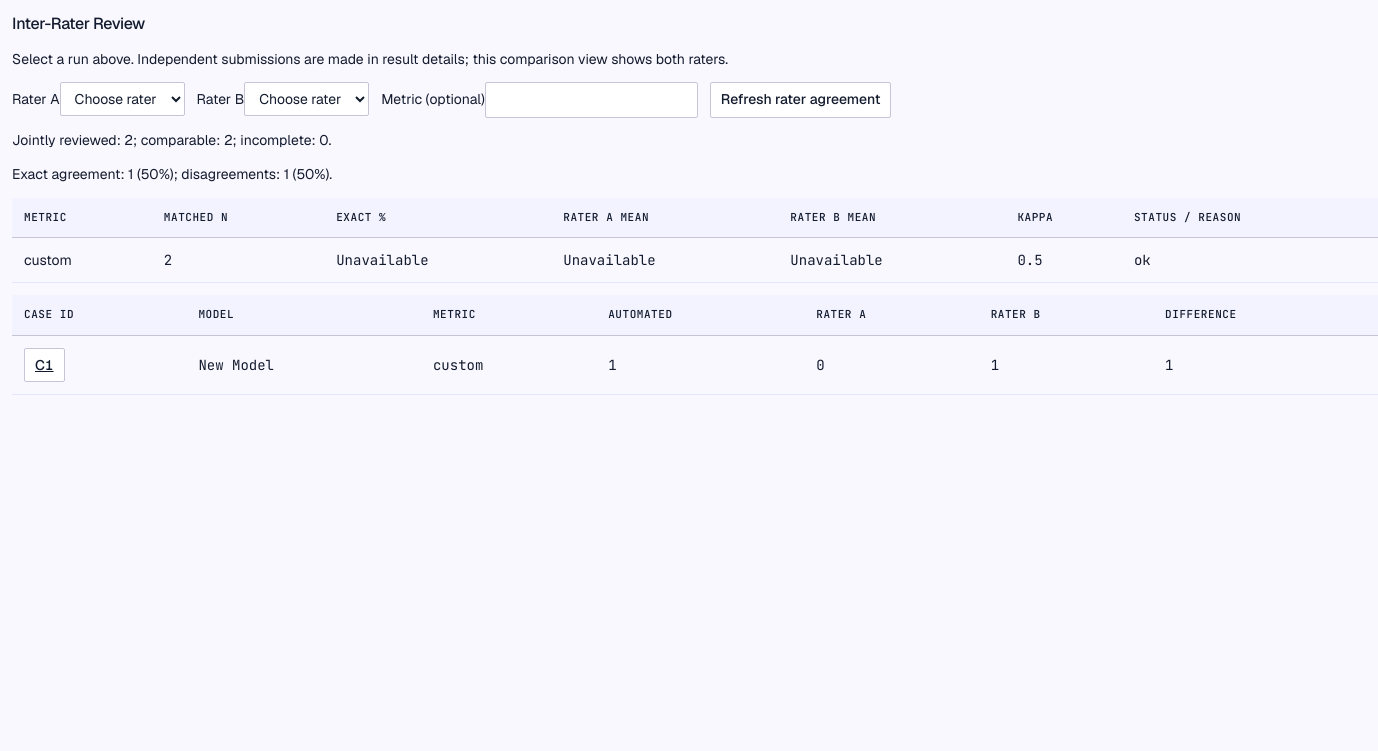
Test: agreement selection, summary and disagreement evidence
Expected: the text "Jointly reviewed: 2; comparable: 2; incomplete: 0." is shown, [12,131,331,149]
Select "Expert Ω" in the dropdown labelled "Rater A" at [122, 100], box [60,82,184,116]
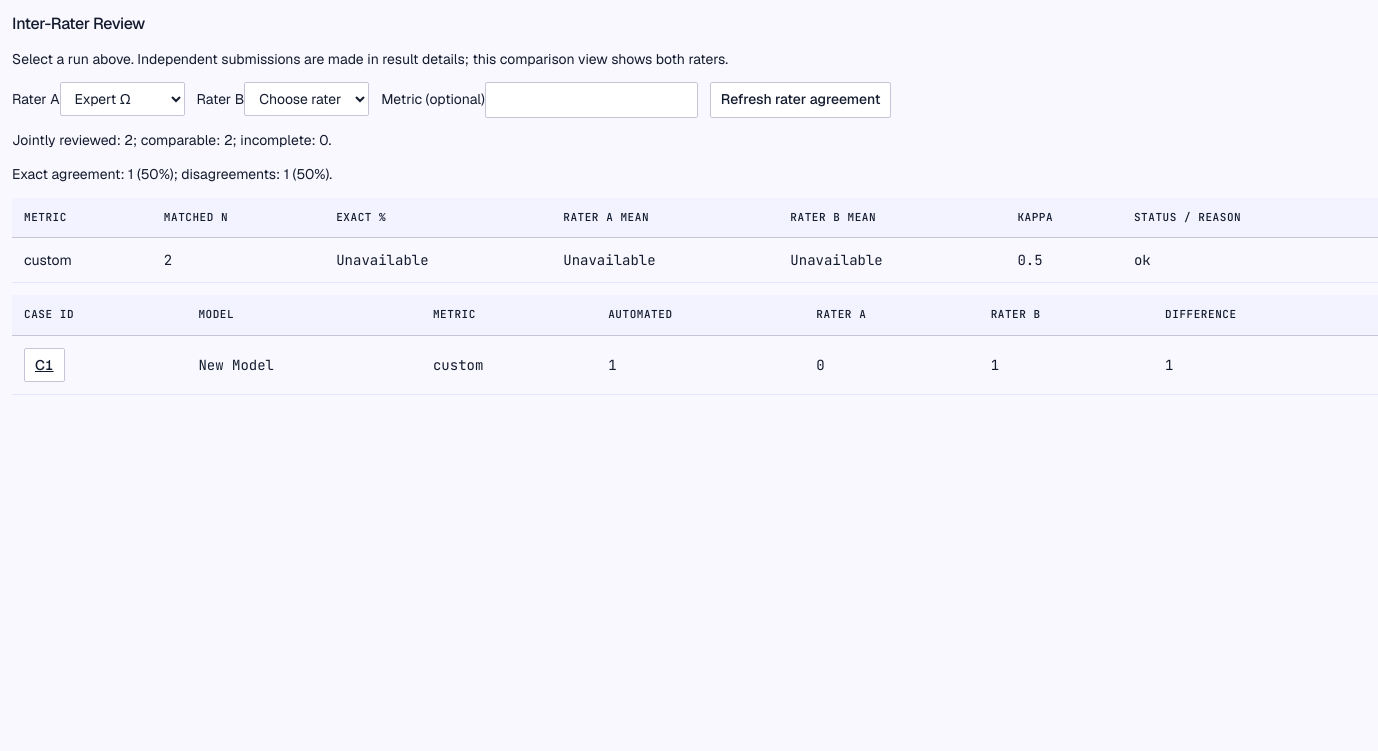
Click the button "C1".
click(44, 365)  # box [24,348,65,382]
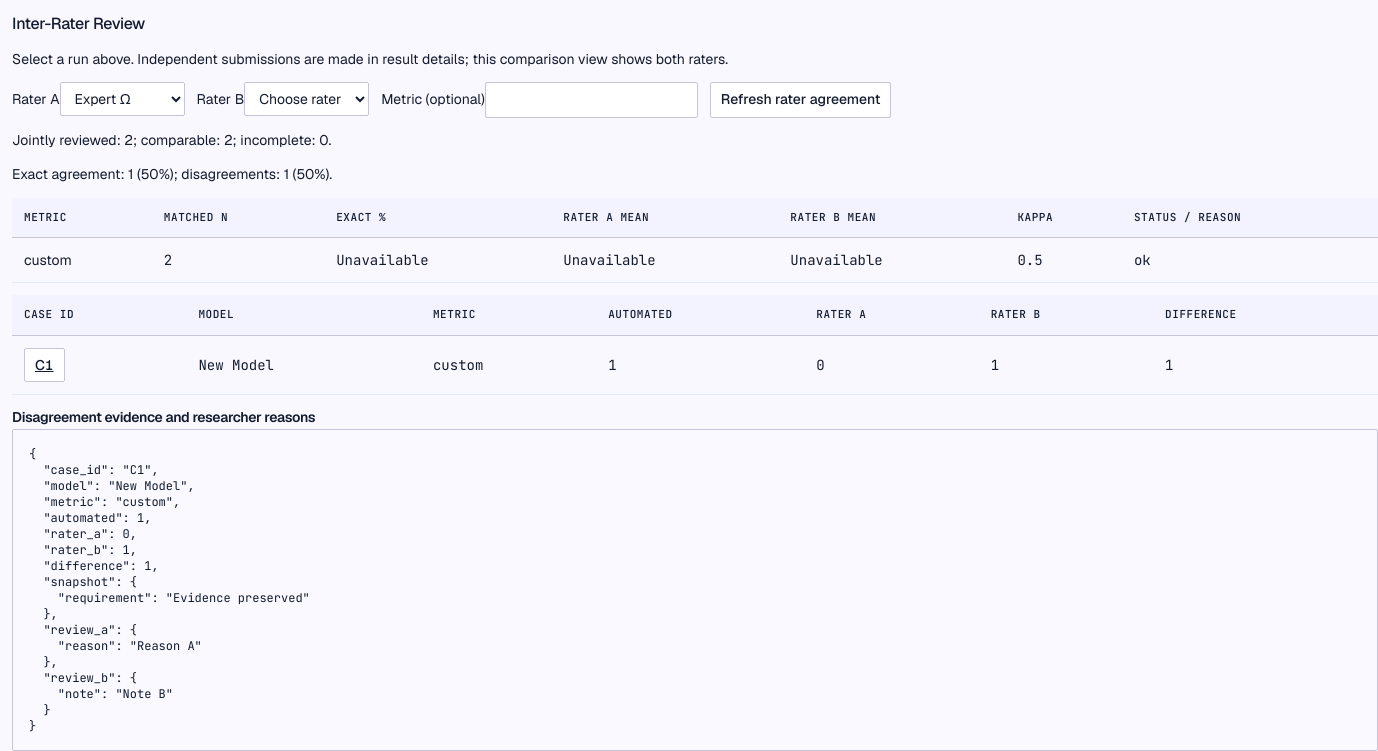
Expected: the text "Exact agreement: 1 (50%); disagreements: 1 (50%)." is shown, [12,165,332,183]
Result: the text "Evidence preserved" is shown at [29,446,310,734]
